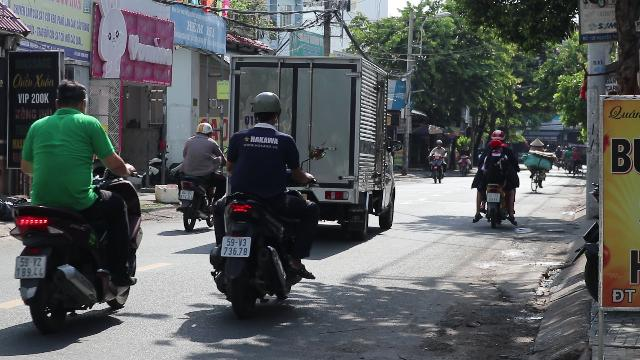helmet: (250, 90, 282, 126), (195, 122, 212, 136), (490, 129, 506, 139)
licenseplate: (15, 256, 45, 278), (222, 236, 250, 256), (179, 190, 193, 198), (486, 194, 499, 202)
motorcyclist: (2, 75, 146, 336), (206, 89, 320, 319), (174, 122, 224, 230), (469, 129, 521, 229)
nohelmet: (50, 80, 90, 116), (488, 138, 504, 154)
